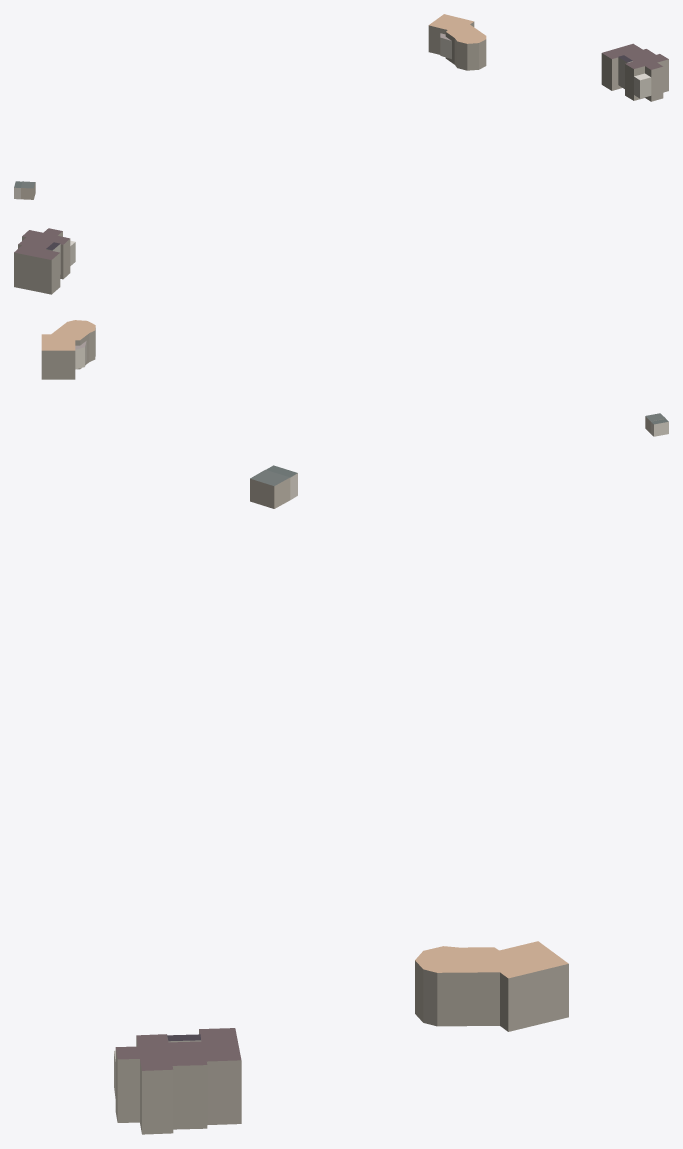
The picture shows the model from 3 angles, top to bottom: view 1: azimuth 30°, elevation 25°; view 2: azimuth 150°, elevation 25°; view 3: azimuth 270°, elevation 25°; orthographic projection. The views are drawn at different scales.
Visible parts, largest first — view 1: tuile; view 2: tuile; view 3: tuile.
Boxes of the visible parts, x1,y1,x2,y2 form: tuile: (14, 14, 668, 199); tuile: (14, 228, 668, 436); tuile: (114, 465, 568, 1134).
Size of the model in its own units: 206 by 10.28 by 65.31.
